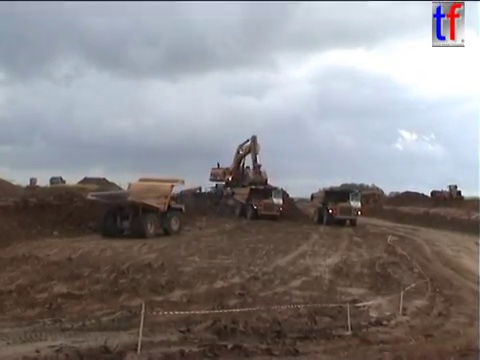excavator: (206, 133, 272, 198)
truck: (85, 176, 186, 237), (224, 184, 284, 221), (310, 186, 361, 226), (330, 185, 384, 205), (206, 182, 236, 198), (177, 184, 204, 201), (48, 175, 66, 188)
wheel loader: (428, 184, 465, 203)
